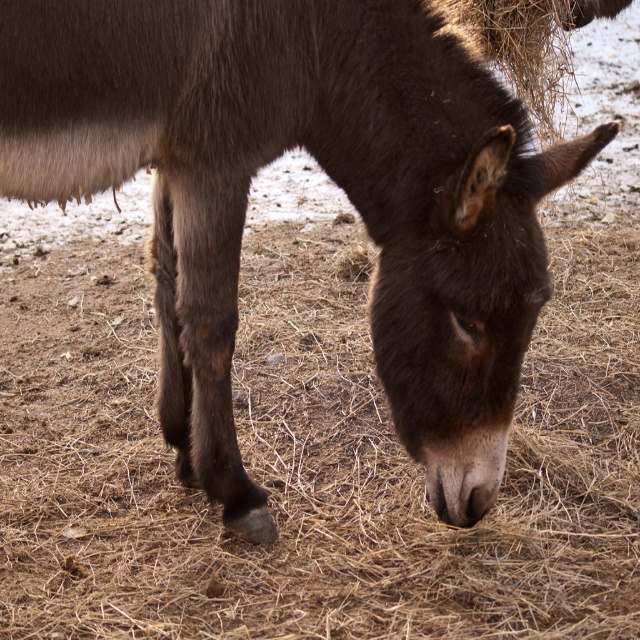Mule: (0, 0, 621, 546)
